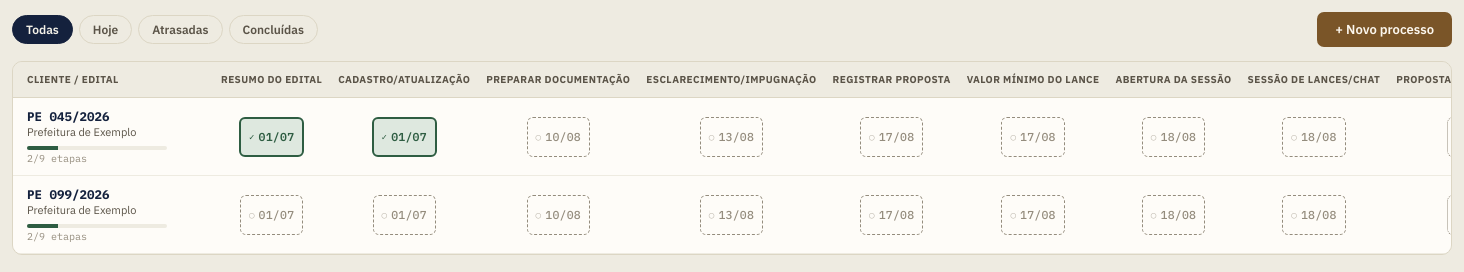
Test: QuadroEtapas › filtro CONCLUIDAS esconde processos sem etapas concluídas
The width and height of the screenshot is (1464, 272).
Step 1. Click the button "Concluídas" → coordinates (273, 30), box [228,15,318,44]
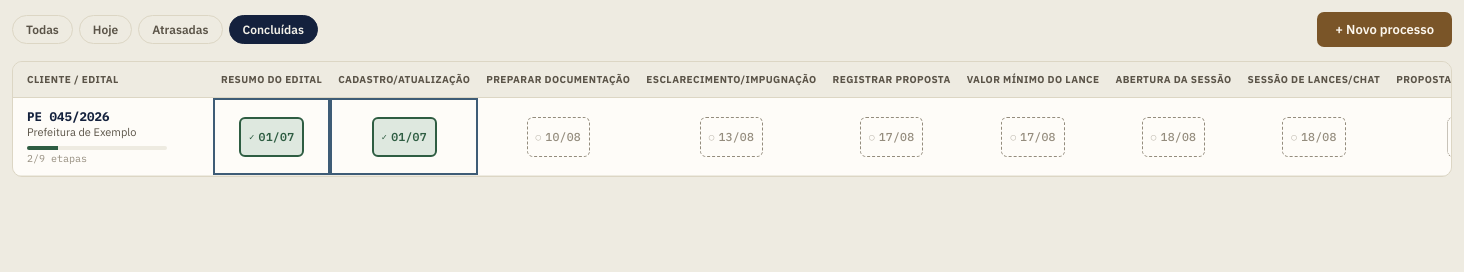
Expected: the text "PE 045/2026" is shown, [27,108,110,124]
Result: the text "PE 099/2026" is gone
